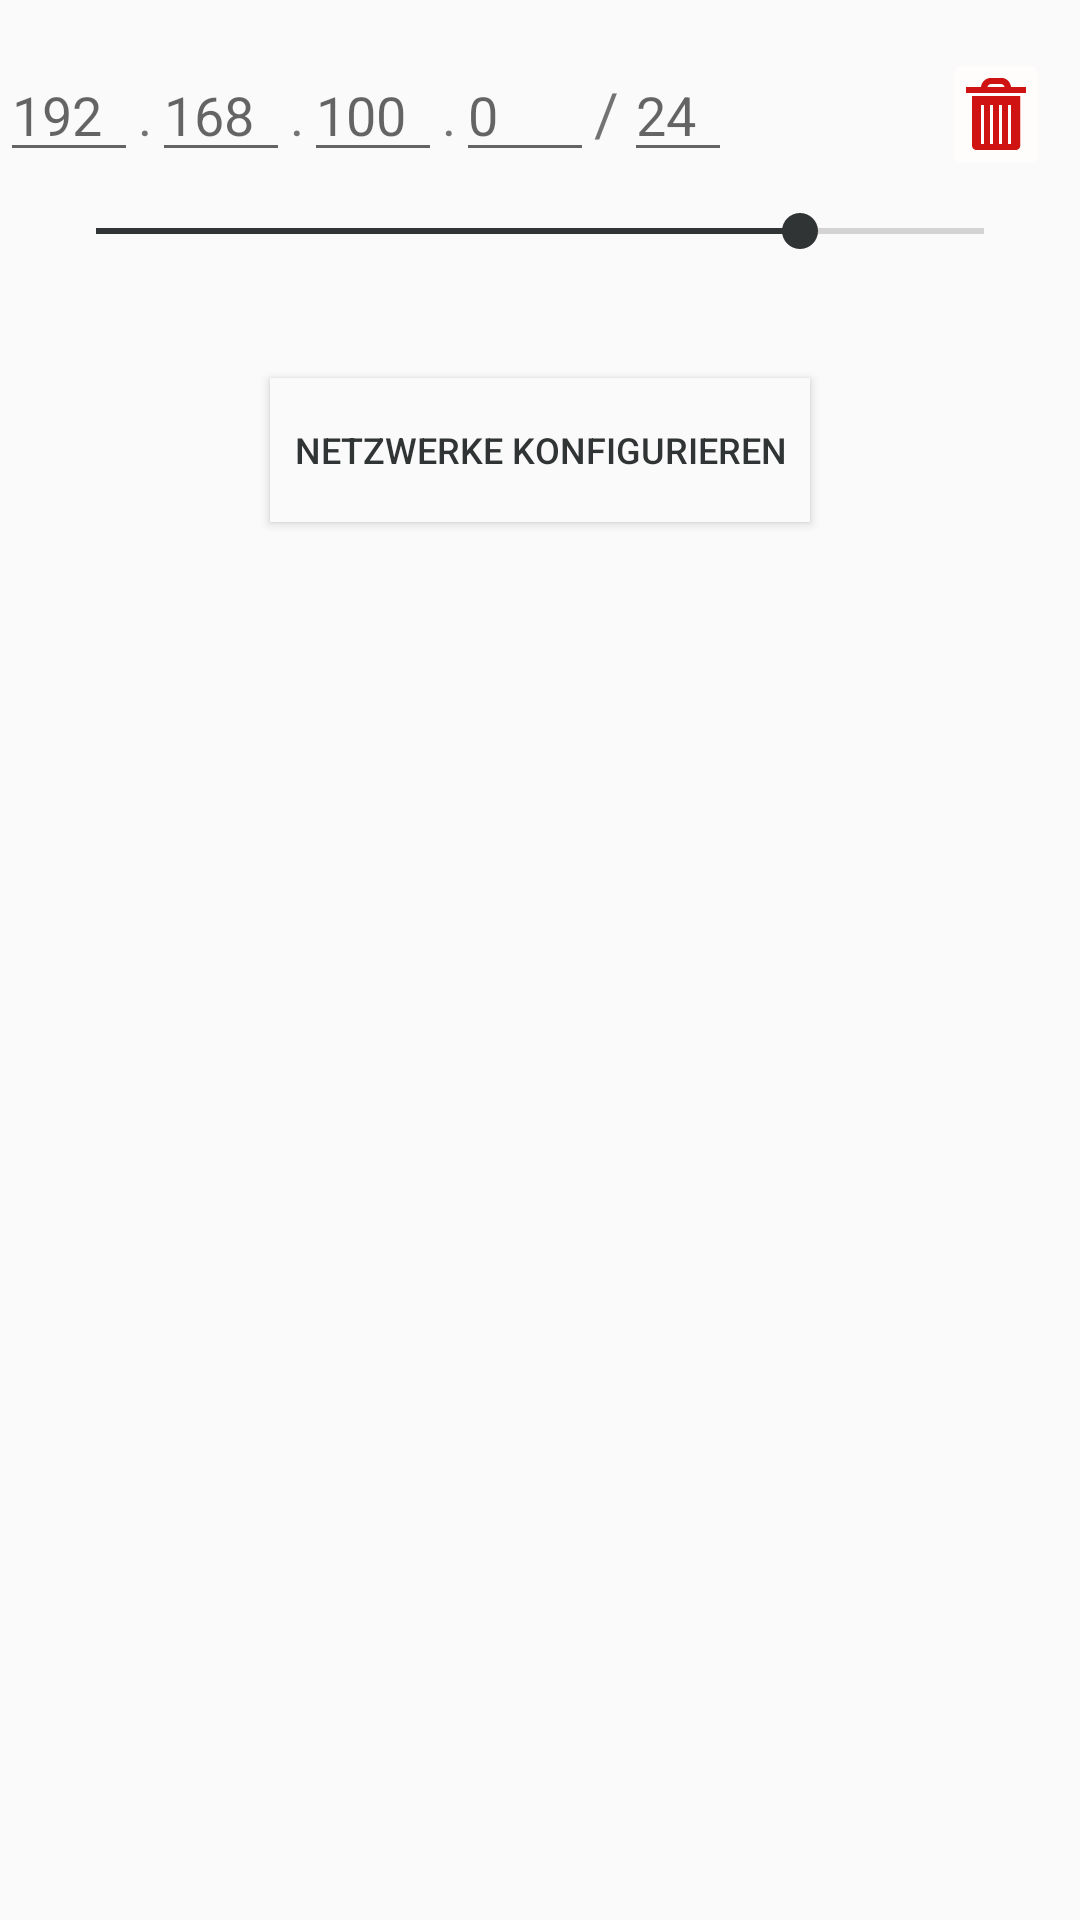

Named icons in this screenshot (1080x1920) and their centers, (x,y):
clear button: (996,114)
